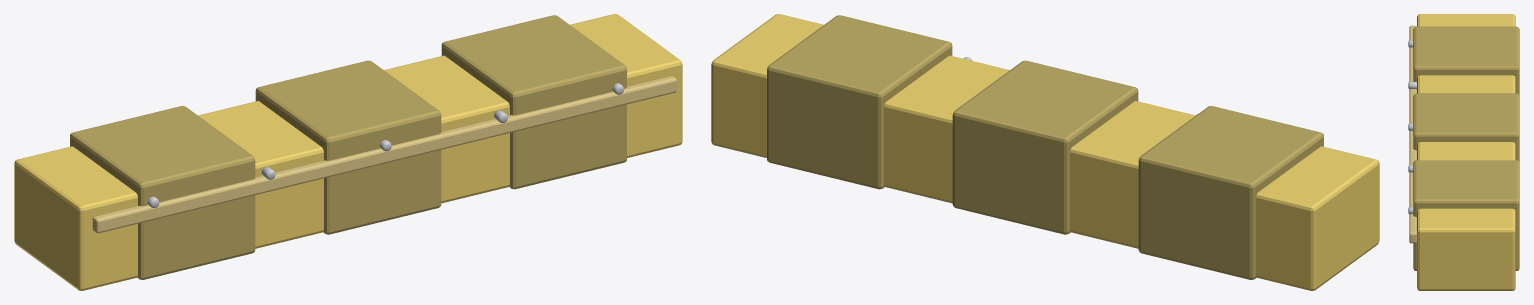
Rendered from утепление.glb.
The picture shows the model from 3 angles, left to right: view 1: azimuth 30°, elevation 25°; view 2: azimuth 150°, elevation 25°; view 3: azimuth 270°, elevation 25°; orthographic projection. The views are drawn at different scales.
Parts seen in each view (by area): view 1: утепление; view 2: утепление; view 3: утепление.
Boxes of the visible parts, x1,y1,x2,y2 form: утепление: [14, 14, 682, 290]; утепление: [711, 14, 1379, 290]; утепление: [1408, 14, 1519, 290].
Bounding box in the file's own units: 2.6 × 0.4 × 0.565.
